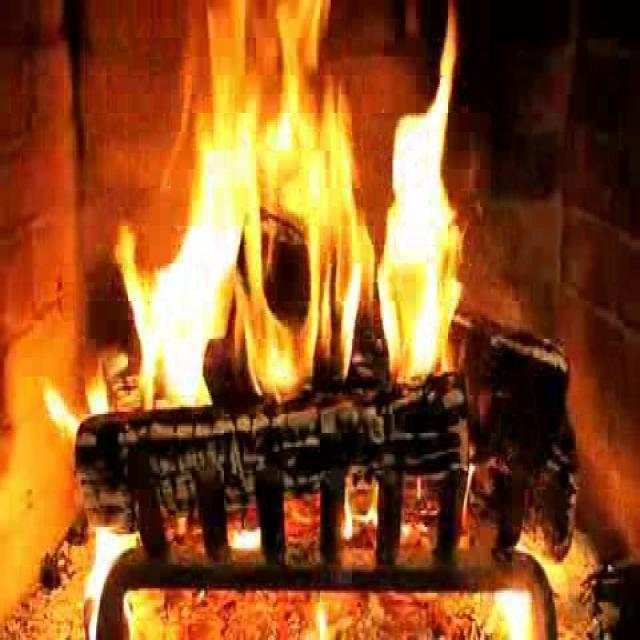Fire: (128, 11, 464, 384)
